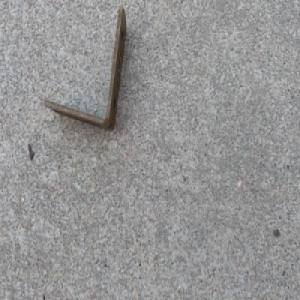MetalPart: (43, 4, 127, 131)
